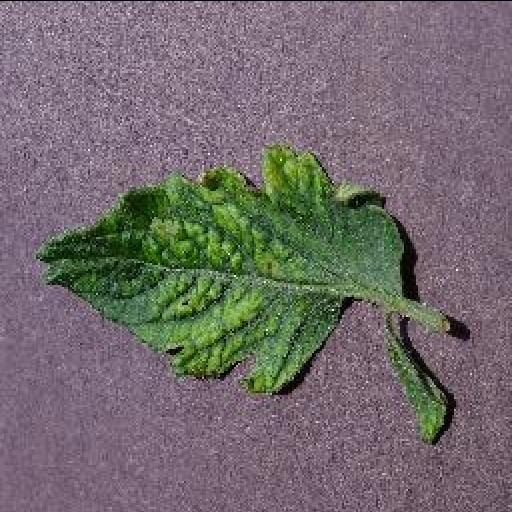Mosaic Virus: (32, 134, 404, 402), (384, 327, 454, 453)
